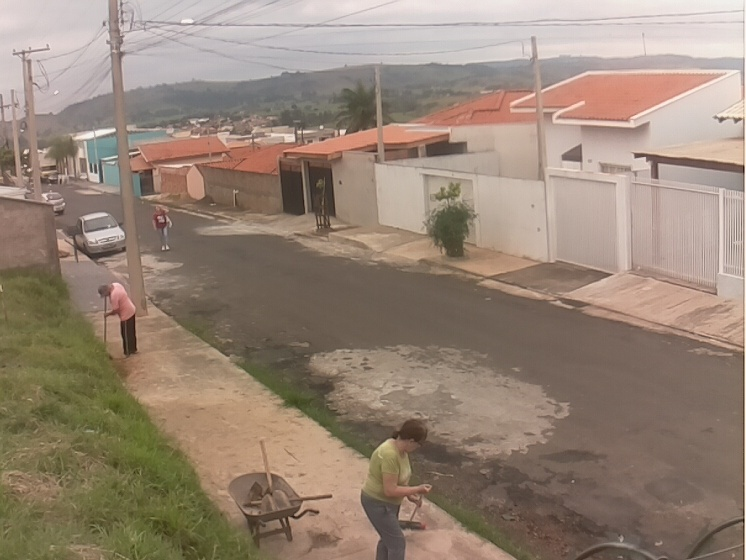person: (359, 418, 433, 560), (97, 281, 140, 358), (151, 204, 173, 252)
